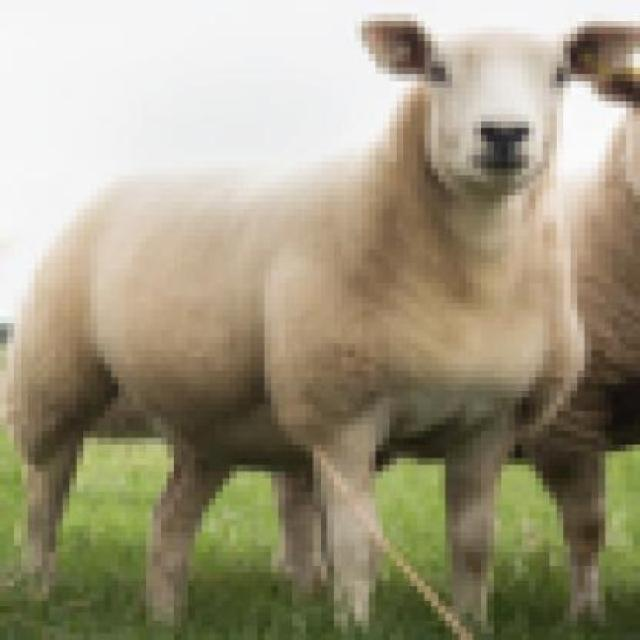Sheep: (0, 6, 634, 634)
